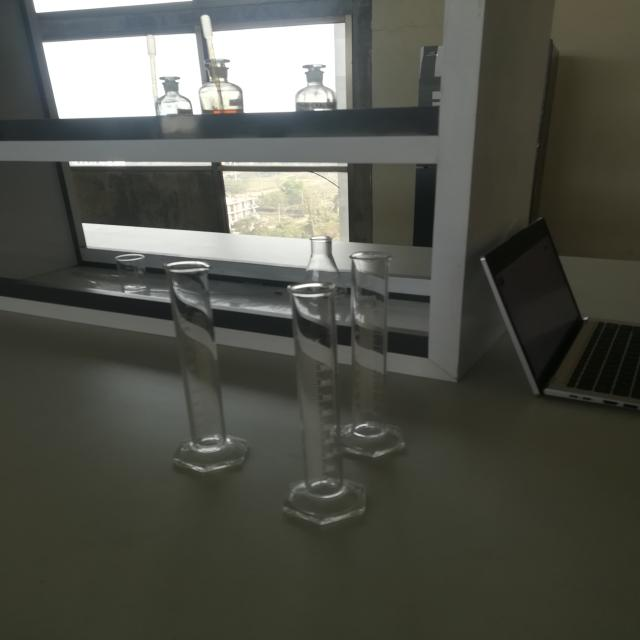Measuring_Cylinder: (256, 255, 385, 537), (138, 239, 260, 496), (330, 234, 428, 479)
